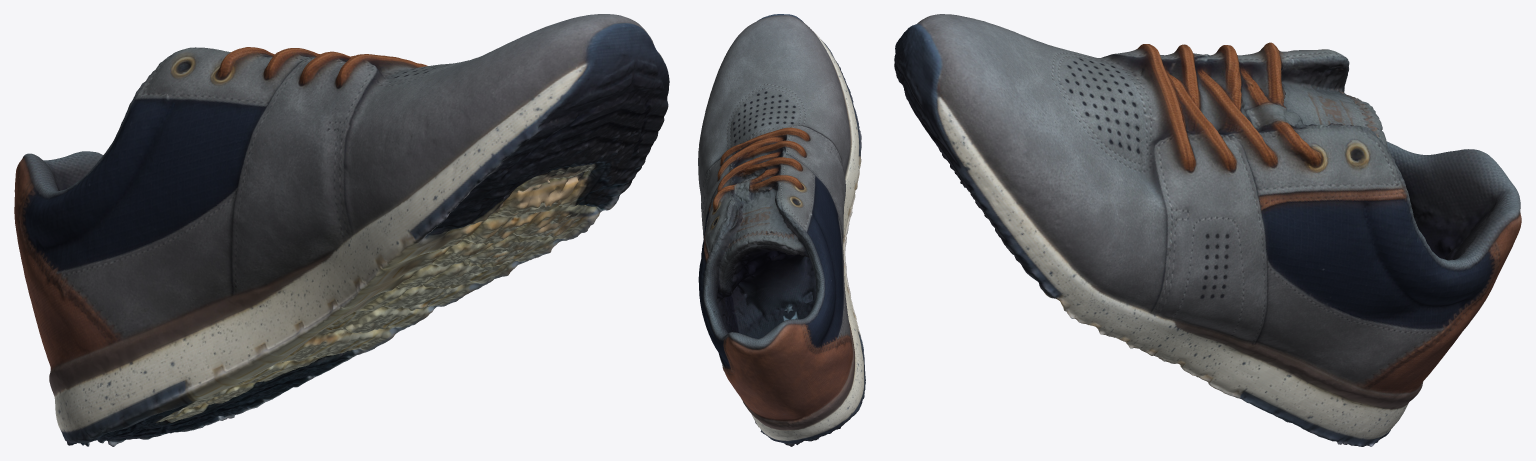
File: puma_winter_shoe_left.glb
The picture shows the model from 3 angles, left to right: view 1: azimuth 30°, elevation 25°; view 2: azimuth 150°, elevation 25°; view 3: azimuth 270°, elevation 25°; orthographic projection. The views are drawn at different scales.
Visible parts, largest first — view 1: Object_2, Object_3, Object_4, Object_5; view 2: Object_2, Object_3, Object_4, Object_5; view 3: Object_2, Object_3, Object_4, Object_5.
Boxes of the visible parts, box(x1,y1,x2,y2) form: Object_2: box(14, 20, 664, 442); Object_3: box(14, 17, 654, 444); Object_4: box(21, 14, 669, 446); Object_5: box(15, 58, 449, 241); Object_2: box(698, 25, 865, 445); Object_3: box(700, 17, 861, 438); Object_4: box(698, 14, 865, 446); Object_5: box(704, 32, 830, 389); Object_2: box(930, 42, 1521, 446); Object_3: box(894, 14, 1505, 446); Object_4: box(894, 14, 1477, 446); Object_5: box(975, 44, 1480, 331).
Bounding box in the file's own units: 6.14 × 7.54 × 8.33.
1 material, 1 textured.
